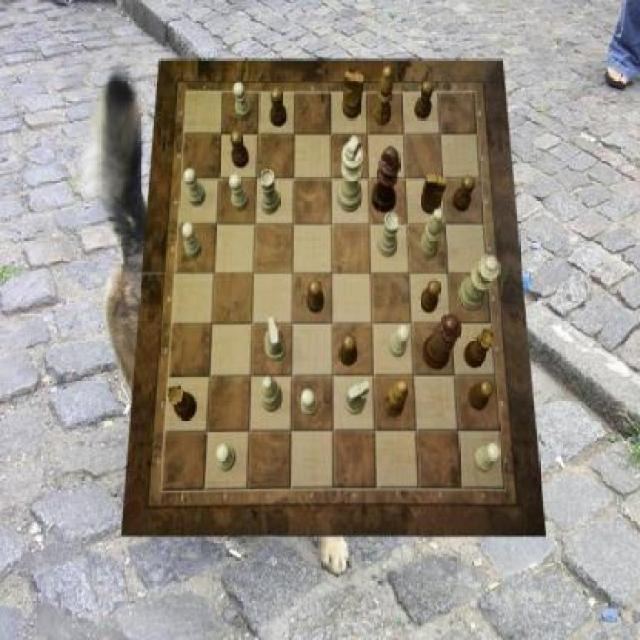bishop: (372, 68, 393, 126), (383, 379, 408, 416)
black-bishop: (372, 146, 400, 212)
black-king: (341, 71, 364, 120), (420, 174, 447, 214)
black-knight: (452, 176, 476, 212), (469, 380, 494, 411), (416, 80, 434, 120), (270, 88, 288, 126), (422, 278, 442, 312), (230, 131, 248, 168), (308, 278, 325, 312), (339, 334, 356, 366)
black-pawn: (423, 312, 463, 370)
black-queen: (464, 328, 496, 368), (168, 384, 198, 420)
black-rook: (420, 209, 443, 260), (261, 376, 284, 412)
white-bishop: (337, 136, 364, 212)
white-king: (265, 318, 287, 362), (346, 378, 371, 414)
white-knight: (183, 169, 206, 207), (474, 442, 501, 472), (232, 83, 252, 122), (183, 222, 203, 259), (229, 174, 249, 211), (389, 325, 410, 357), (298, 389, 318, 417), (217, 445, 237, 472)
white-pawn: (458, 256, 501, 312)
white-queen: (377, 212, 399, 258), (260, 169, 281, 215)
